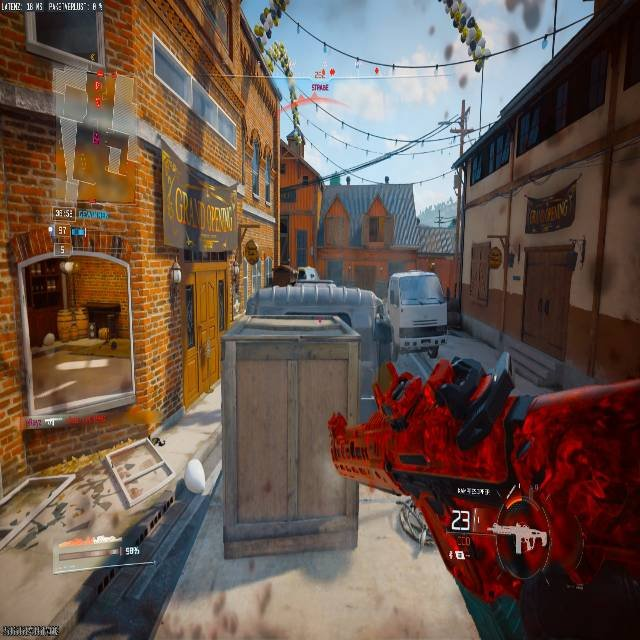head: (428, 354, 496, 414)
player: (436, 0, 496, 73)
